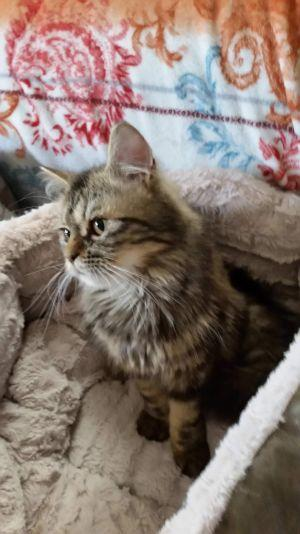persian: (31, 122, 189, 306)
